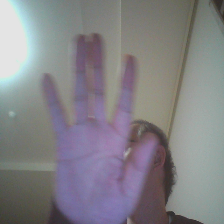hand: (36, 24, 159, 222)
